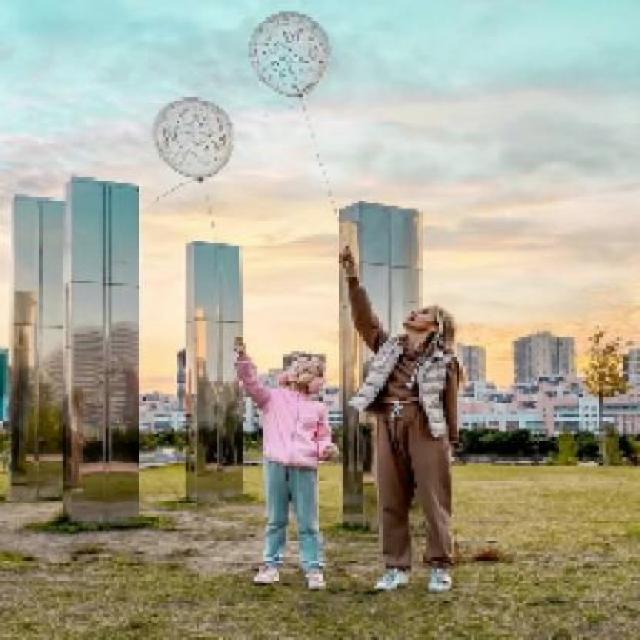child: (234, 333, 340, 587)
